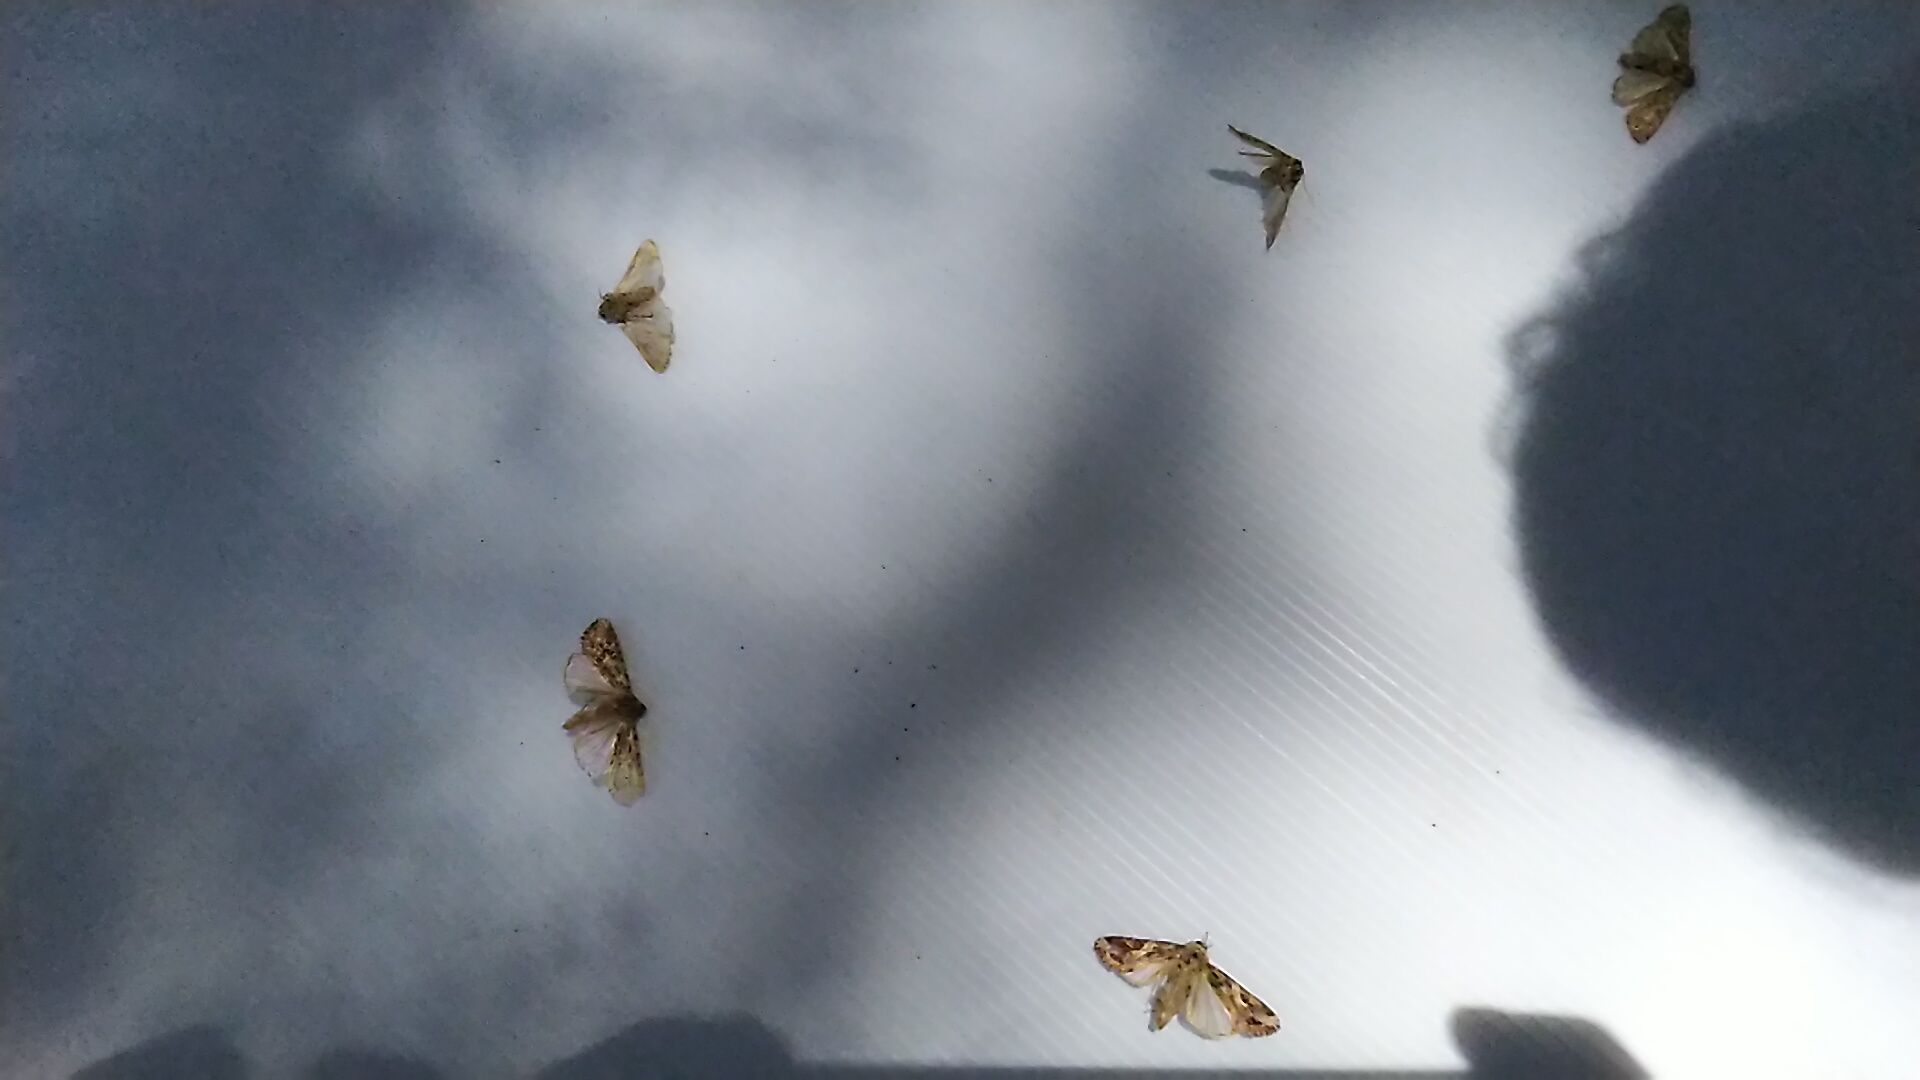INS-B: (1085, 915, 1299, 1044), (546, 608, 665, 812), (585, 228, 702, 376), (1602, 3, 1697, 156), (1217, 115, 1316, 253)
